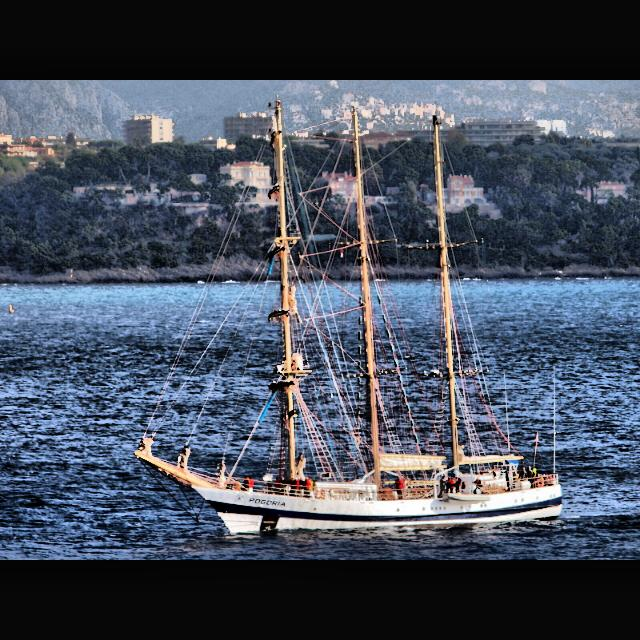sailing_vessel: (133, 98, 562, 536)
